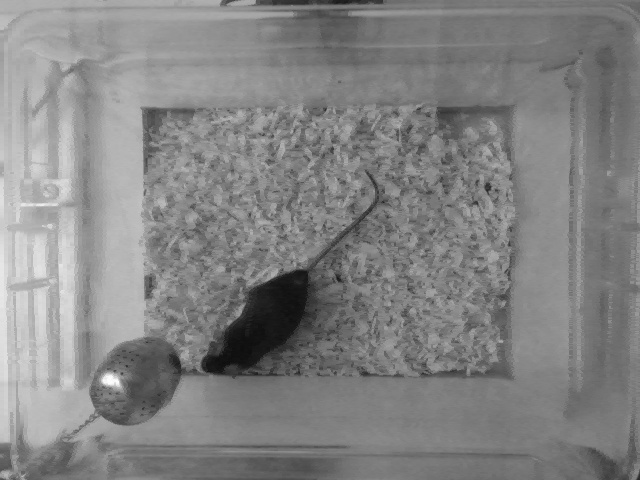mice: (197, 169, 386, 377)
